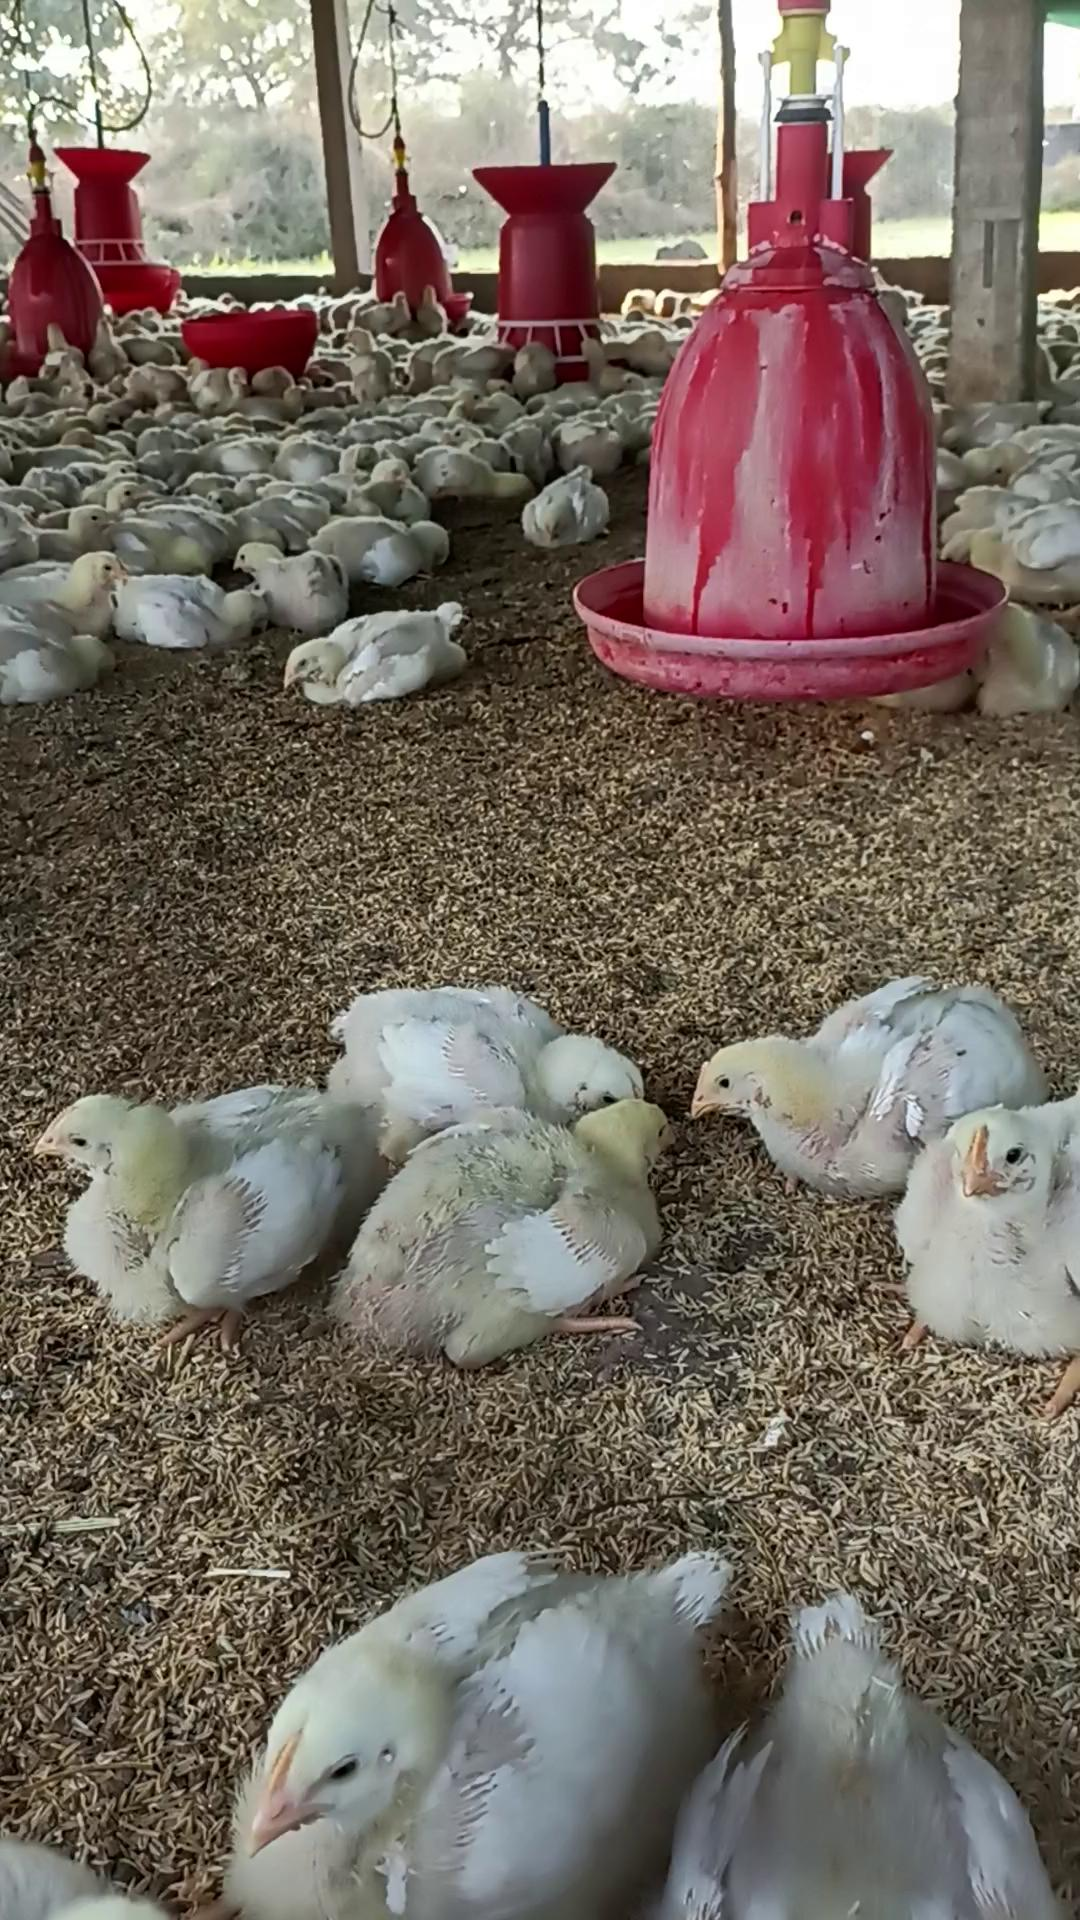Pollos: (216, 1538, 646, 1917), (674, 1586, 1063, 1917), (28, 1079, 335, 1331), (373, 1106, 680, 1346), (690, 976, 942, 1185), (319, 969, 649, 1112), (913, 1117, 1072, 1349), (282, 615, 476, 709), (7, 546, 135, 644), (228, 535, 348, 621), (514, 473, 615, 553)
